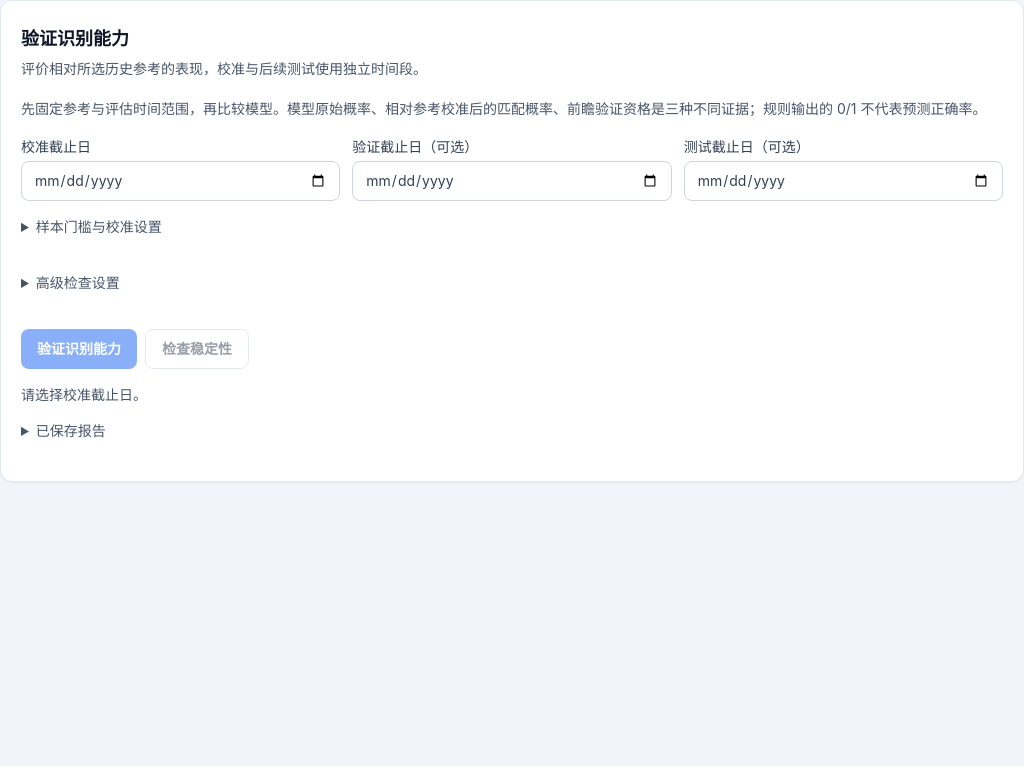
Test: 验证识别能力 › 新修订可精确读取自己绑定的旧修订校准报告，但不会放宽到其他旧报告
Click the heading "已保存报告": (71, 430) [36, 422, 106, 439]
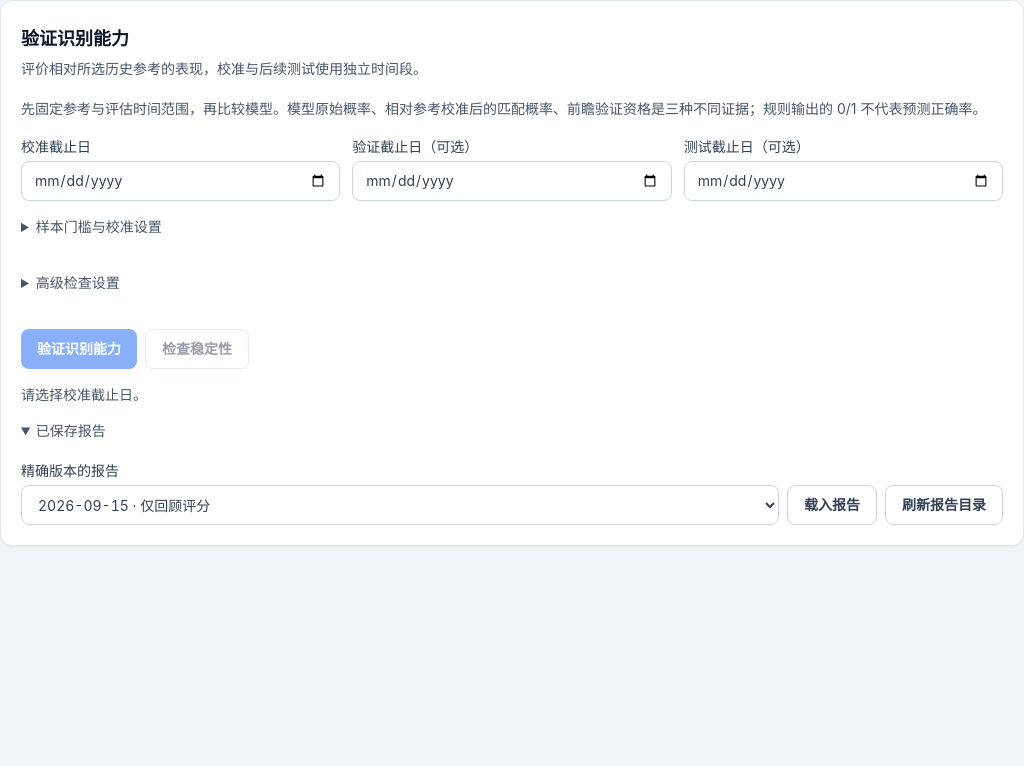
Now the dropdown named "已保存验证报告" shows "2026-09-15 · 仅回顾评分", box [21, 485, 779, 525]
Click the button "载入报告": (832, 505) [787, 485, 877, 525]
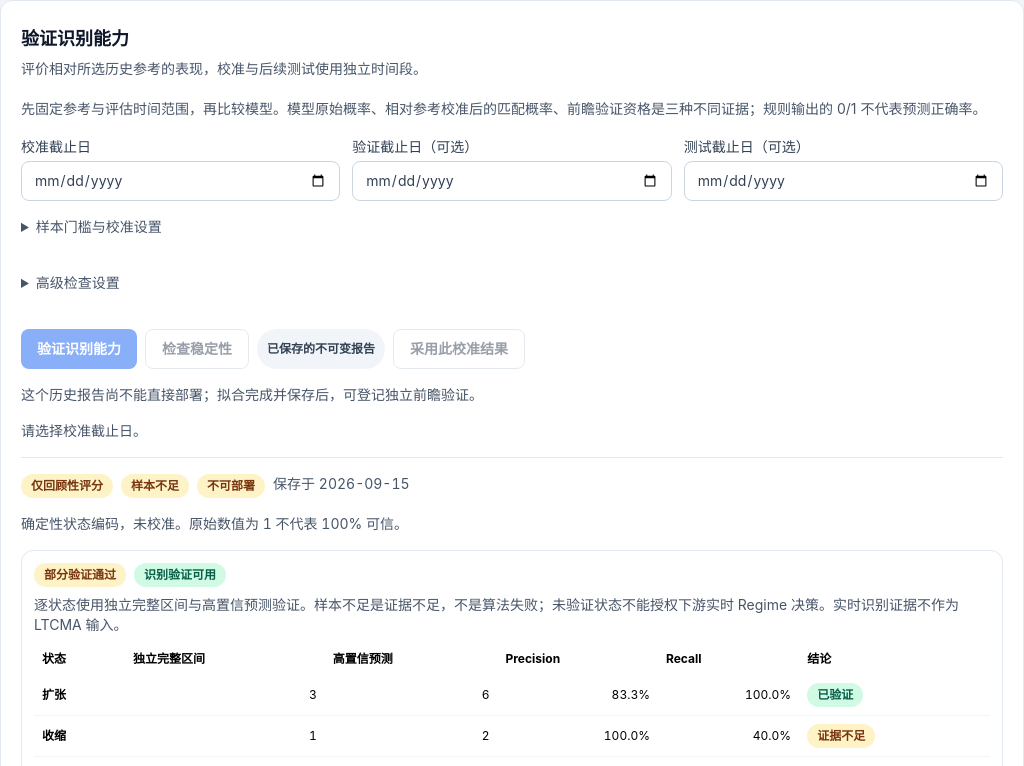
Now the text "已保存的不可变报告" is shown, box [257, 329, 385, 369]
